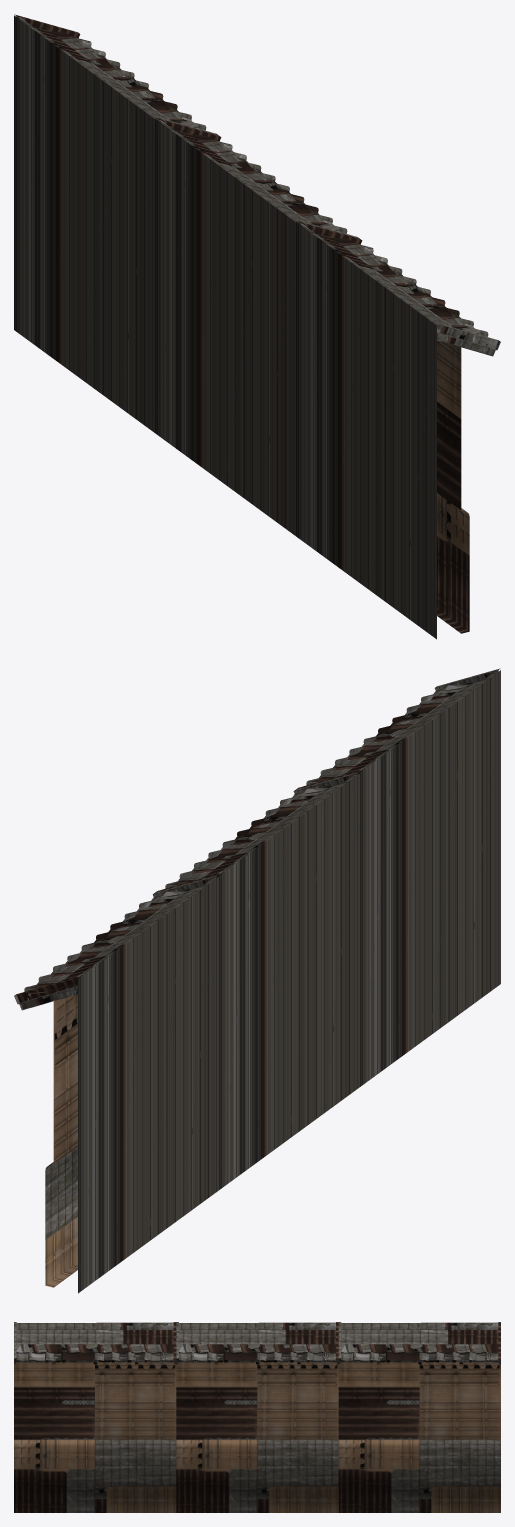
The model's file is zenkei_miniwall_straight.fbx.
The picture shows the model from 3 angles, top to bottom: view 1: azimuth 30°, elevation 25°; view 2: azimuth 150°, elevation 25°; view 3: azimuth 270°, elevation 25°; orthographic projection. The views are drawn at different scales.
Visible parts, largest first — view 1: zenkei_miniWall1.006; view 2: zenkei_miniWall1.006; view 3: zenkei_miniWall1.006.
Boxes of the visible parts, left/top/right/bottom form: zenkei_miniWall1.006: left=14, top=14, right=500, bottom=639; zenkei_miniWall1.006: left=14, top=668, right=500, bottom=1293; zenkei_miniWall1.006: left=14, top=1322, right=500, bottom=1512.
Bounding box in the file's own units: 0.4689 × 5.31 × 2.19.
